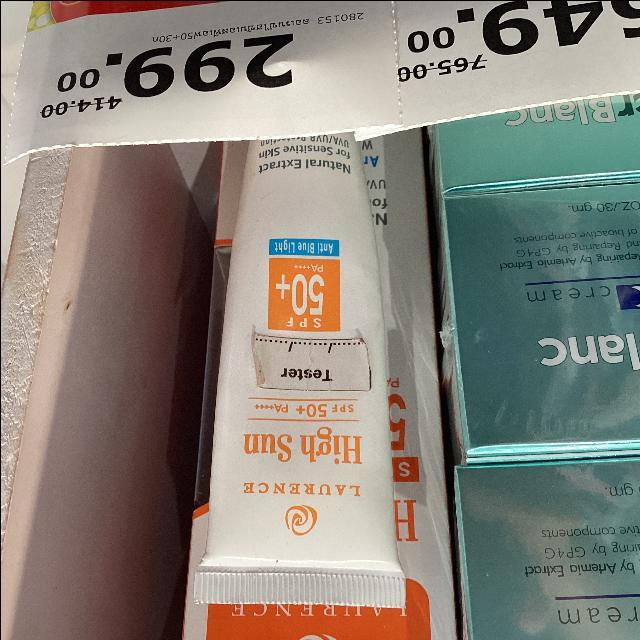Squeeze Tube: (168, 79, 446, 612)
